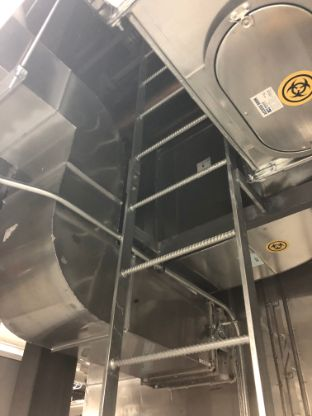Duct: (1, 10, 124, 356), (104, 1, 312, 178), (108, 244, 245, 393), (144, 173, 312, 293)
